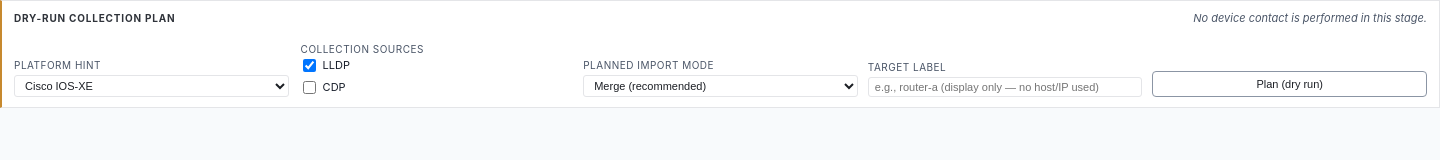
Scenario: LiveCollectionDryRunPanel — surface › surfaces planner errors observably
Click the button with test id "tm-live-collection-plan-button": coordinates (1290, 84) [1152, 71, 1427, 97]
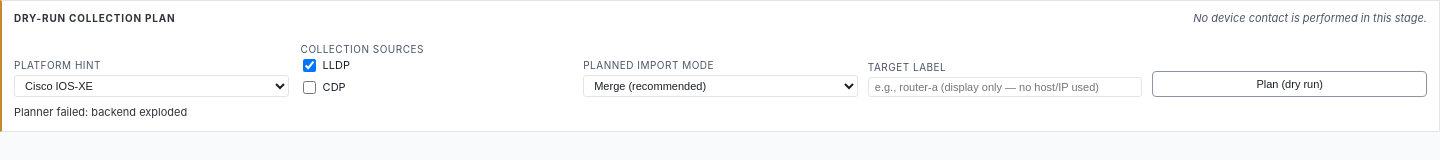
Expected: the text with test id "tm-live-collection-error" reads "Planner failed: backend exploded", [14, 105, 187, 119]
